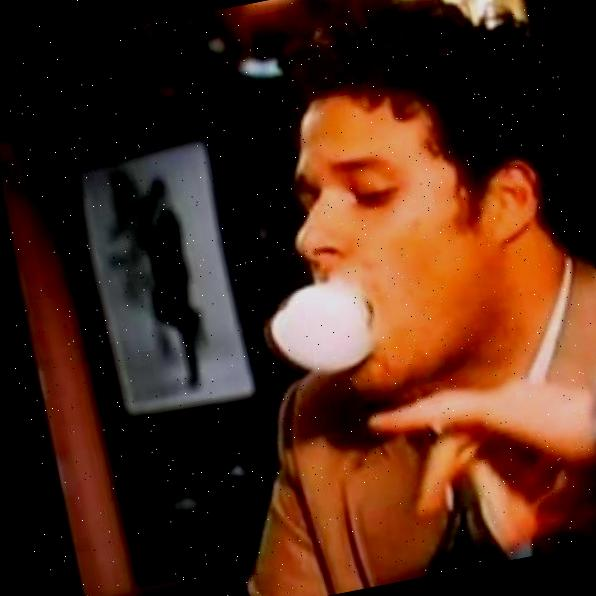smoke: (245, 253, 383, 391)
